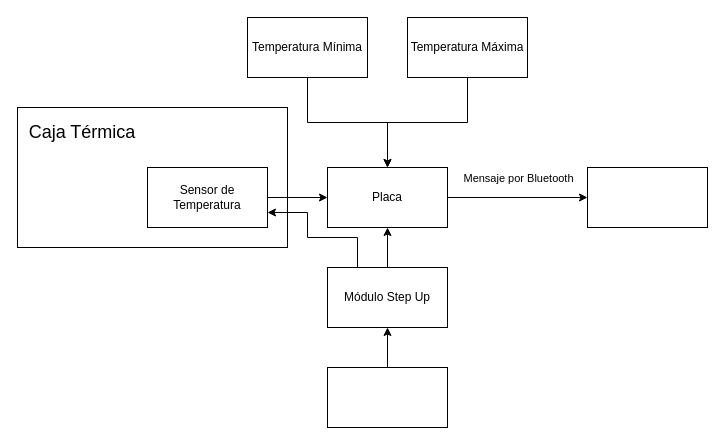
Image size: 725x445. Some labels were removed from this diagram. The shapes that lost their labels are listed below. From the top down, each one's centre as x and y in pixels, then its label:
the point at 647,197: Celular
the point at 387,397: Baterías Recargables
